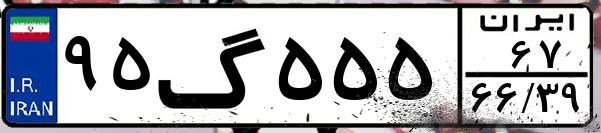3: (535, 70, 560, 125)
5: (270, 28, 330, 110), (385, 28, 445, 110), (330, 28, 385, 110), (110, 28, 156, 98)
6: (508, 27, 537, 80), (470, 70, 495, 125), (495, 70, 520, 125)
7: (537, 27, 568, 80)
9: (57, 26, 110, 100), (560, 70, 590, 125)
گ: (156, 12, 270, 120)
